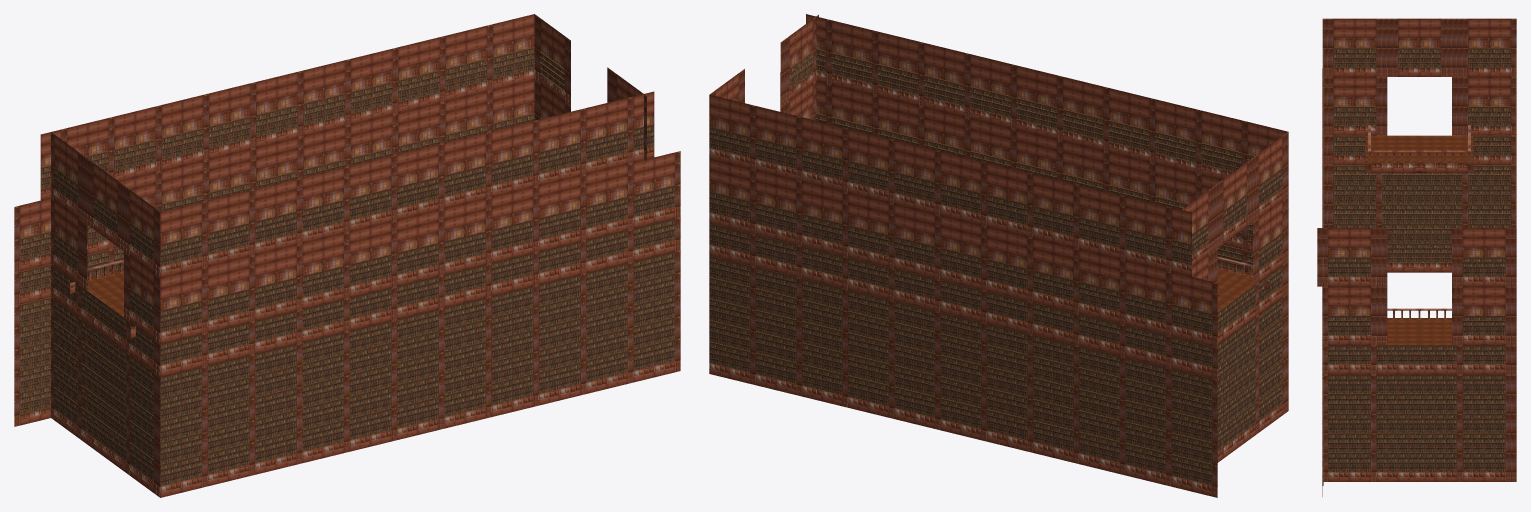
Rendered from env_platform_room_01.FBX.
The picture shows the model from 3 angles, left to right: view 1: azimuth 30°, elevation 25°; view 2: azimuth 150°, elevation 25°; view 3: azimuth 270°, elevation 25°; orthographic projection. The views are drawn at different scales.
Visible parts, largest first — view 1: env_platform_room_01; view 2: env_platform_room_01; view 3: env_platform_room_01.
Boxes of the visible parts, x1,y1,x2,y2 form: env_platform_room_01: [14, 14, 680, 497]; env_platform_room_01: [709, 14, 1288, 497]; env_platform_room_01: [1317, 18, 1516, 496].
Bounding box in the file's own units: 2087 × 1024 × 729.
Materials: 4 (4 with a texture image).
